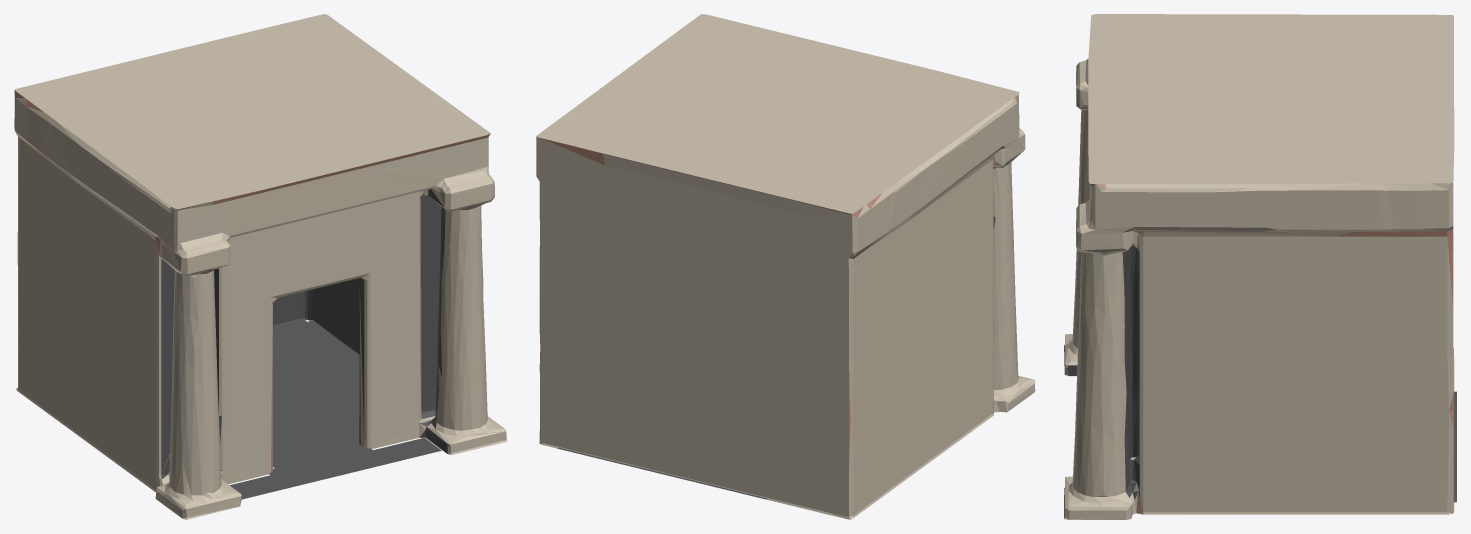
The model's file is etape-1.glb.
The picture shows the model from 3 angles, left to right: view 1: azimuth 30°, elevation 25°; view 2: azimuth 150°, elevation 25°; view 3: azimuth 270°, elevation 25°; orthographic projection. The views are drawn at different scales.
Parts seen in each view (by area): view 1: geometry_0; view 2: geometry_0; view 3: geometry_0.
Boxes of the visible parts, x1,y1,x2,y2 form: geometry_0: (14,14,507,519); geometry_0: (536,14,1035,519); geometry_0: (1064,14,1456,519).
Bounding box in the file's own units: 0.8408 × 0.7443 × 0.7969.
